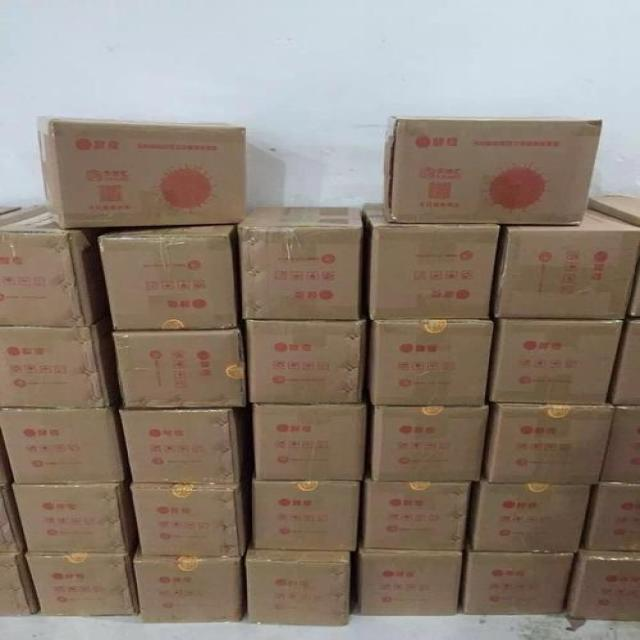box: (383, 117, 602, 227), (37, 117, 247, 229), (360, 203, 502, 320), (494, 207, 639, 320), (99, 223, 244, 329), (238, 208, 364, 320), (1, 206, 109, 326), (484, 319, 626, 407), (1, 314, 122, 408), (483, 400, 613, 486), (370, 319, 494, 406), (115, 399, 244, 482), (113, 329, 247, 407), (0, 405, 133, 483), (247, 319, 366, 404), (465, 474, 590, 552), (12, 477, 140, 553), (132, 473, 247, 557), (253, 399, 366, 482), (132, 542, 244, 624), (371, 406, 490, 482), (252, 470, 358, 552), (361, 478, 471, 550), (246, 551, 351, 626), (356, 547, 463, 616), (27, 552, 141, 616), (463, 551, 571, 616), (589, 196, 640, 320), (564, 541, 639, 621), (580, 482, 640, 552), (600, 406, 639, 485), (607, 320, 640, 406), (0, 552, 40, 618), (0, 485, 28, 552)
